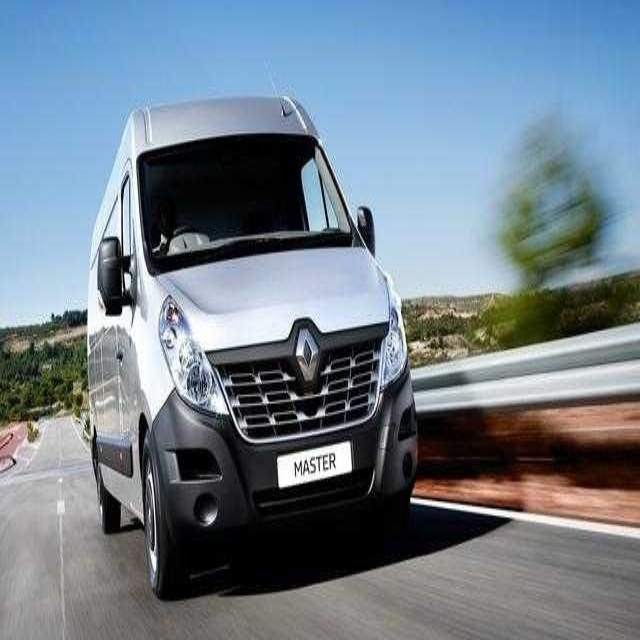Van: (85, 96, 419, 599)
